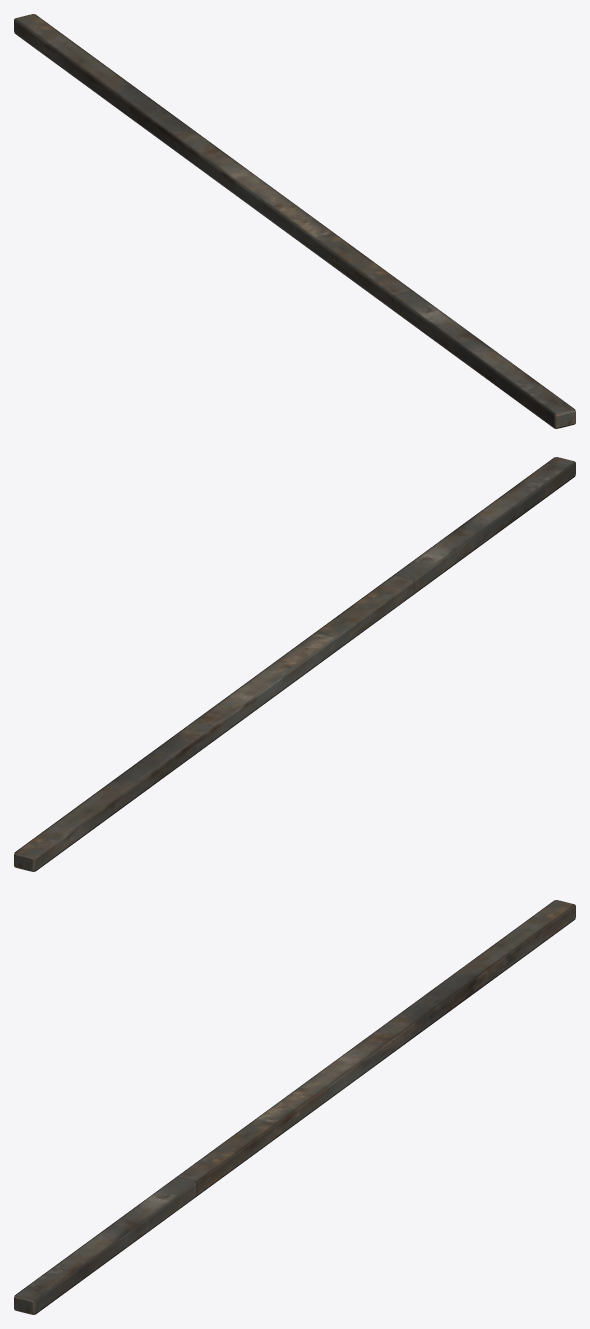
Rendered from railing_005.glb.
3 renders of one model, top to bottom at view 1: azimuth 30°, elevation 25°; view 2: azimuth 150°, elevation 25°; view 3: azimuth 330°, elevation 25°, orthographic.
Parts seen in each view (by area): view 1: Building_12_081; view 2: Building_12_081; view 3: Building_12_081.
Boxes of the visible parts, x1=… form: Building_12_081: x1=14, y1=14, x2=575, y2=428; Building_12_081: x1=14, y1=457, x2=575, y2=871; Building_12_081: x1=14, y1=900, x2=575, y2=1314.
Size of the model in its own units: 0.023 by 0.0159 by 1.
Materials: 1 (1 with a texture image).
